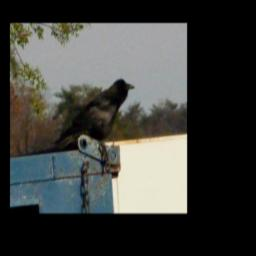Crow: (55, 77, 135, 149)
